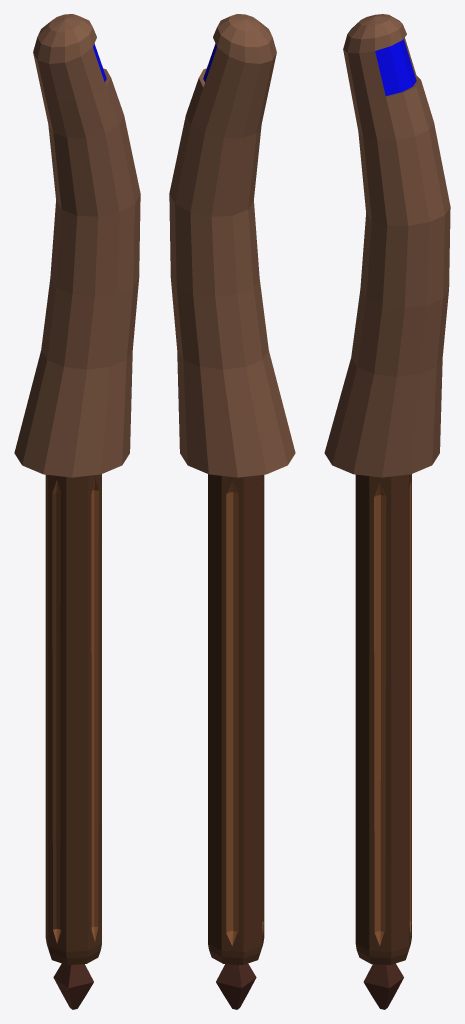
Rendered from Wand 545.glb.
3 views of the same model, side by side, from view 1: azimuth 30°, elevation 25°; view 2: azimuth 150°, elevation 25°; view 3: azimuth 330°, elevation 25° (orthographic).
Visible parts, largest first — view 1: GeneratedWand; view 2: GeneratedWand; view 3: GeneratedWand.
Part boxes in pixels (left/top/right/bottom): GeneratedWand: left=14, top=14, right=140, bottom=1009; GeneratedWand: left=169, top=14, right=295, bottom=1009; GeneratedWand: left=324, top=14, right=450, bottom=1009.
Bounding box in the file's own units: 0.0644 × 0.5403 × 0.0572.
